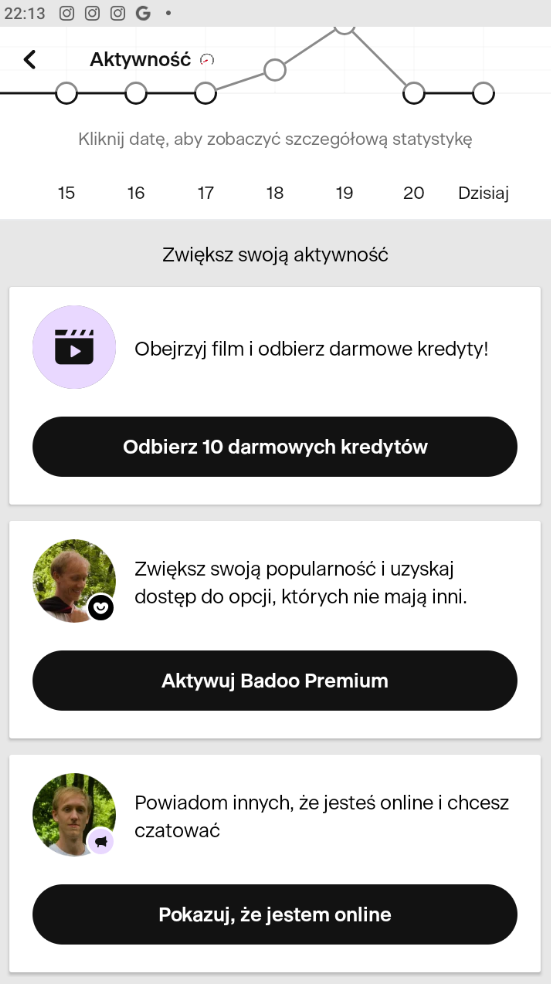kupno_button: (31, 881, 520, 947), (29, 651, 516, 711)
start_button: (30, 411, 517, 480)
